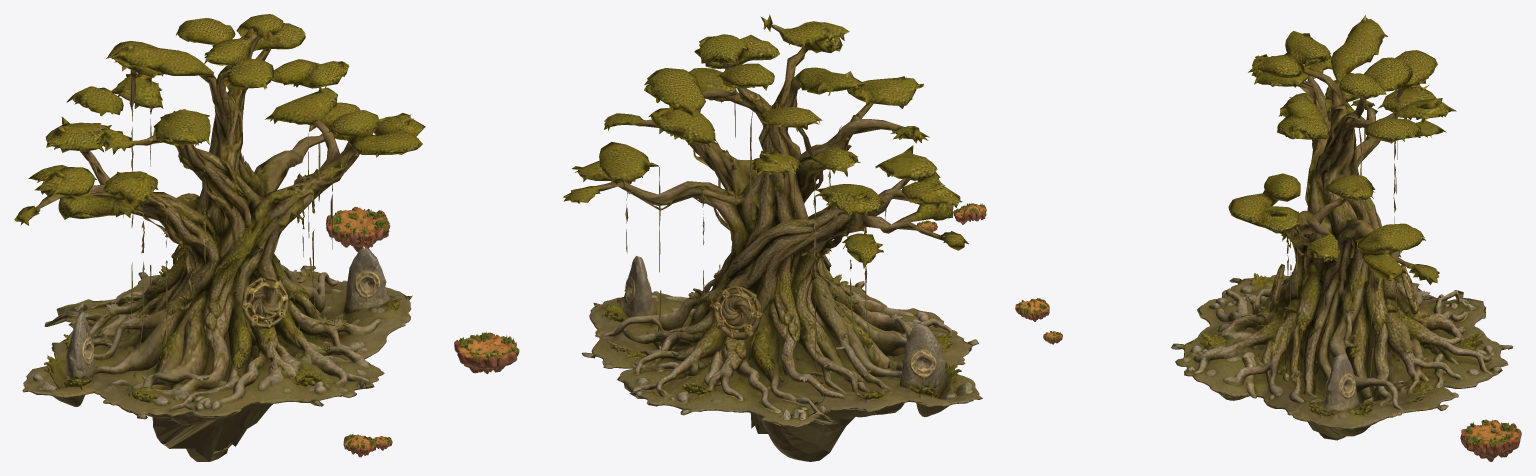
File: 02-ancient-tree.glb
3 renders of one model, left to right at view 1: azimuth 30°, elevation 25°; view 2: azimuth 150°, elevation 25°; view 3: azimuth 270°, elevation 25°, orthographic. The views are drawn at different scales.
Visible parts, largest first — view 1: tripo_node_1417d2f9-6a41-4c19-8d22-cc2a3ca2383e, tripo_node_7f0ab475-0fcf-4e6c-9da8-ec6ed68006bb.001, tripo_node_7f0ab475-0fcf-4e6c-9da8-ec6ed68006bb.002; view 2: tripo_node_1417d2f9-6a41-4c19-8d22-cc2a3ca2383e, tripo_node_7f0ab475-0fcf-4e6c-9da8-ec6ed68006bb.001; view 3: tripo_node_1417d2f9-6a41-4c19-8d22-cc2a3ca2383e, tripo_node_7f0ab475-0fcf-4e6c-9da8-ec6ed68006bb.001, tripo_node_7f0ab475-0fcf-4e6c-9da8-ec6ed68006bb.002.
Boxes of the visible parts, x1,y1,x2,y2 form: tripo_node_1417d2f9-6a41-4c19-8d22-cc2a3ca2383e: [14, 14, 425, 461]; tripo_node_7f0ab475-0fcf-4e6c-9da8-ec6ed68006bb.001: [326, 207, 390, 252]; tripo_node_7f0ab475-0fcf-4e6c-9da8-ec6ed68006bb.002: [343, 434, 376, 457]; tripo_node_1417d2f9-6a41-4c19-8d22-cc2a3ca2383e: [563, 14, 982, 461]; tripo_node_7f0ab475-0fcf-4e6c-9da8-ec6ed68006bb.001: [454, 331, 519, 374]; tripo_node_1417d2f9-6a41-4c19-8d22-cc2a3ca2383e: [1171, 14, 1513, 440]; tripo_node_7f0ab475-0fcf-4e6c-9da8-ec6ed68006bb.001: [1460, 419, 1521, 461]; tripo_node_7f0ab475-0fcf-4e6c-9da8-ec6ed68006bb.002: [1015, 298, 1049, 321].
Bounding box in the file's own units: 1.29 × 1.2 × 1.35.
2 materials, 2 textured.
